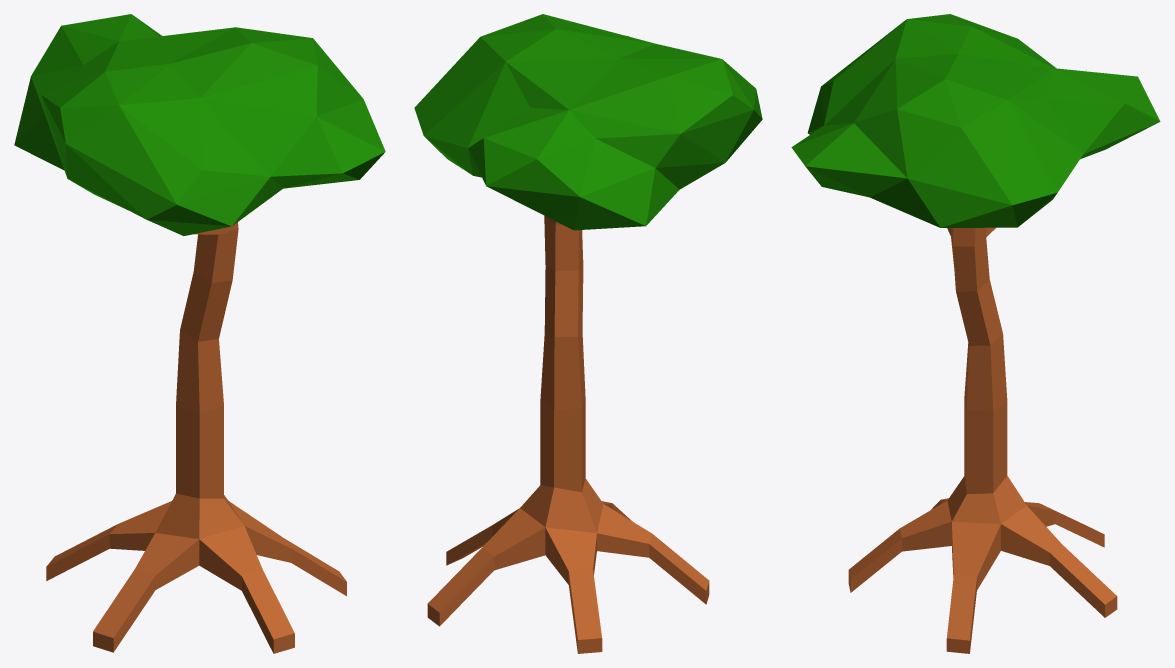
File: tree_small.fbx
3 renders of one model, left to right at view 1: azimuth 30°, elevation 25°; view 2: azimuth 150°, elevation 25°; view 3: azimuth 270°, elevation 25°, orthographic. The views are drawn at different scales.
Visible parts, largest first — view 1: tree1; view 2: tree1; view 3: tree1.
Boxes of the visible parts, x1=… form: tree1: x1=14, y1=14, x2=385, y2=653; tree1: x1=414, y1=14, x2=762, y2=653; tree1: x1=791, y1=14, x2=1160, y2=653.
Size of the model in its own units: 167 by 300 by 189.
